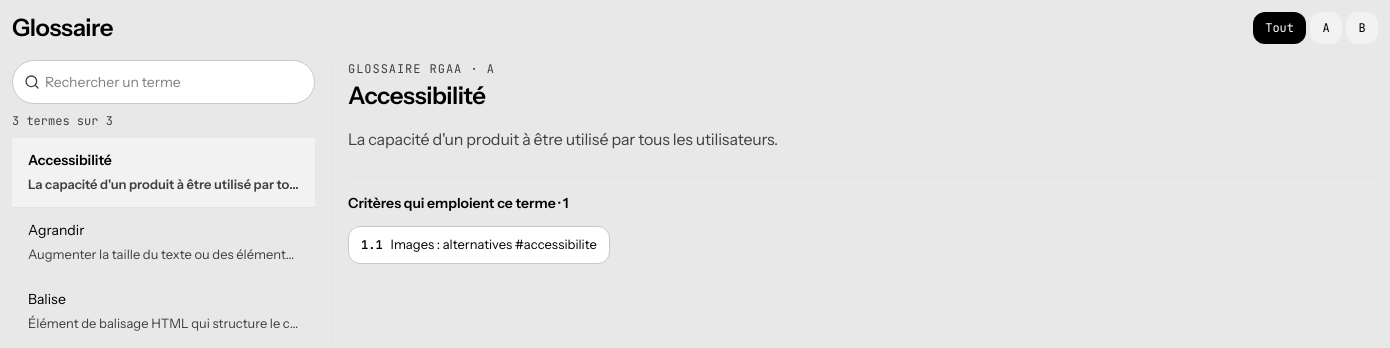
Scenario: GlossaryScreen › montre l'état vide quand la recherche n'a aucun résultat
The image size is (1390, 348).
In the search field named "Rechercher un terme du glossaire": (164, 82) [12,60,315,104], type "xyz"
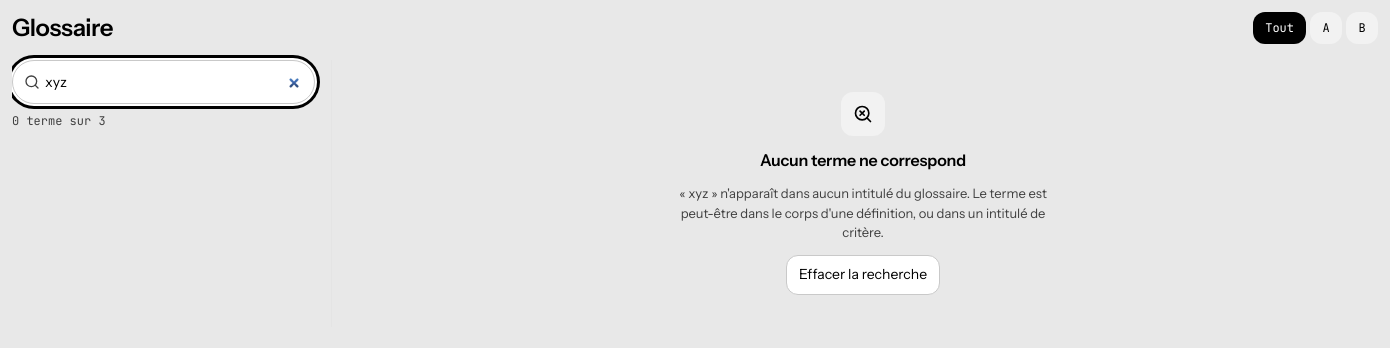
Now the heading "Aucun terme ne correspond" is shown, box [760,148,966,172]
Now the text "« xyz » n'apparaît dans aucun intitulé du glossaire. Le terme est peut-être dans le corps d'une définition, ou dans un i" is shown, box [679,185,1047,240]
